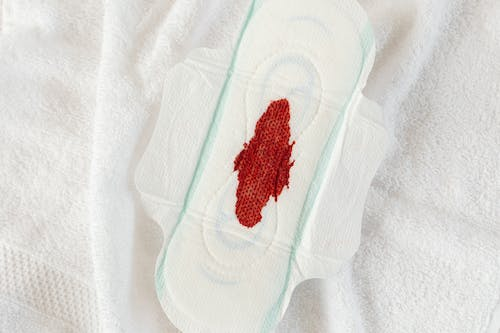blood: (232, 97, 296, 227)
